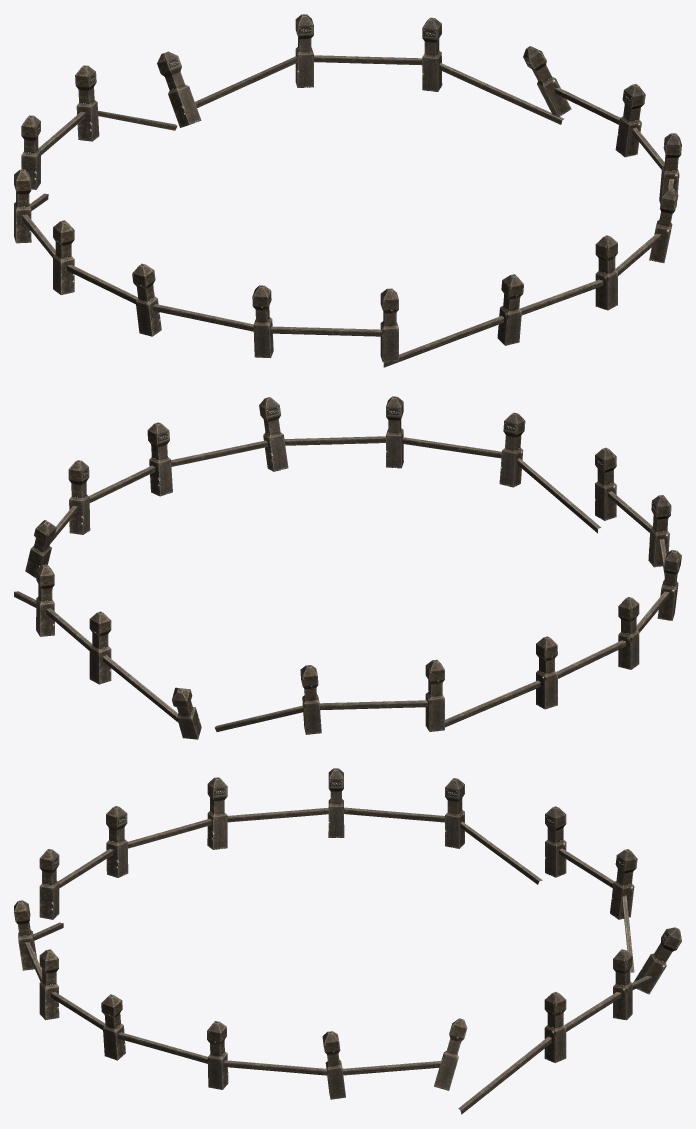
Rendered from miniboss_13_1.glb.
The picture shows the model from 3 angles, top to bottom: view 1: azimuth 30°, elevation 25°; view 2: azimuth 150°, elevation 25°; view 3: azimuth 270°, elevation 25°; orthographic projection. The views are drawn at different scales.
Visible parts, largest first — view 1: miniboss_04; view 2: miniboss_04; view 3: miniboss_04.
Boxes of the visible parts, box(x1,y1,x2,y2) form: miniboss_04: box(14, 14, 681, 367); miniboss_04: box(14, 396, 681, 739); miniboss_04: box(14, 768, 681, 1114).
Bounding box in the file's own units: 60.88 × 9.47 × 63.79.
1 material, 1 textured.
